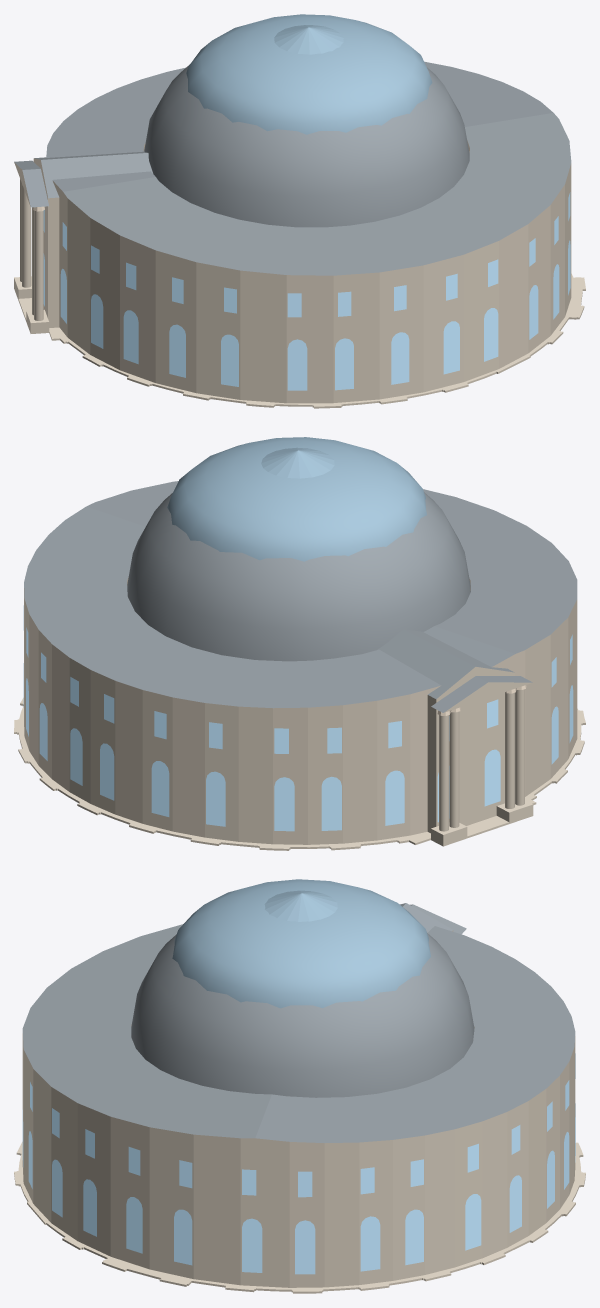
3 views of the same model, one above another, from view 1: azimuth 30°, elevation 25°; view 2: azimuth 150°, elevation 25°; view 3: azimuth 270°, elevation 25° (orthographic). The views are drawn at different scales.
Parts seen in each view (by area): view 1: roof, stone, glass, window; view 2: roof, stone, glass, window; view 3: roof, stone, glass, window.
Boxes of the visible parts, box(x1,y1,x2,y2) form: roof: box(14, 61, 571, 275); stone: box(14, 140, 585, 408); glass: box(186, 14, 432, 134); window: box(43, 192, 570, 390); roof: box(24, 481, 577, 712); stone: box(14, 577, 585, 850); glass: box(167, 437, 426, 561); window: box(23, 605, 573, 831); roof: box(22, 903, 575, 1143); stone: box(14, 930, 585, 1293); glass: box(172, 879, 430, 1008); window: box(22, 1053, 575, 1274).
Size of the model in its own units: 69.27 by 36.3 by 67.18.
